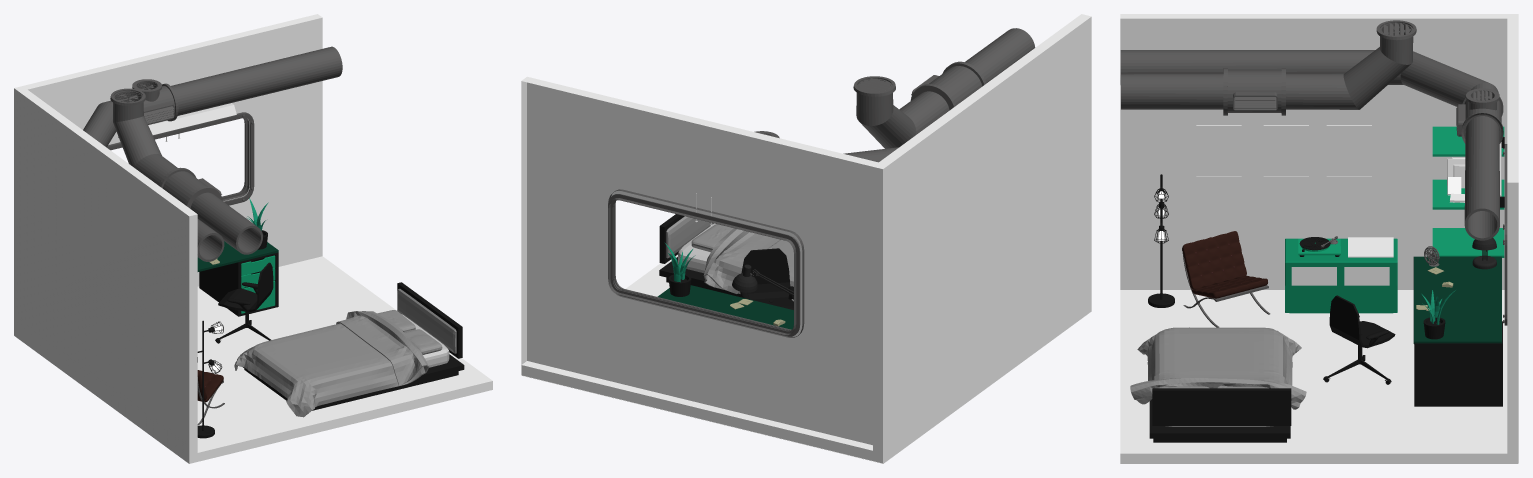
File: bake1.glb
3 renders of one model, left to right at view 1: azimuth 30°, elevation 25°; view 2: azimuth 150°, elevation 25°; view 3: azimuth 270°, elevation 25°, orthographic. The views are drawn at different scales.
Parts seen in each view (by area): view 1: Cube.002, Cube.001, GROUND, Plane, NurbsPath, NurbsPath.001, Cube, Cube.091, Cube.009, Cube.011, Plane.006, Circle.005 (+3 smaller); view 2: Cube.001, Cube.002, NurbsPath.001, GROUND, Plane, Cube.058, Circle.005, Cube.011, Cube.091, mattress, pillow2, Cube.009; view 3: Cube.002, GROUND, NurbsPath, Plane.002, NurbsPath.001, Plane, Cube.058, Cube, Cube.001, Cube.010, Cube.008, Cube.275 (+15 smaller).
Boxes of the visible parts, x1,y1,x2,y2 form: Cube.002: (14,86,197,463); Cube.001: (14,14,322,335); GROUND: (15,256,492,463); Plane: (234,311,429,417); NurbsPath: (83,46,342,261); NurbsPath.001: (110,88,262,254); Cube: (199,252,278,316); Cube.091: (397,288,456,353); Cube.009: (243,354,464,410); Cube.011: (107,112,254,205); Plane.006: (148,103,236,135); Circle.005: (218,262,273,312); Cube.001: (521,76,883,463); Cube.002: (873,14,1091,463); NurbsPath.001: (853,28,1035,148); GROUND: (521,254,1091,463); Plane: (703,228,793,301); Cube.058: (657,285,793,329); Circle.005: (741,248,793,309); Cube.011: (608,189,804,337); Cube.091: (666,216,713,258); mattress: (678,223,715,273); pillow2: (691,224,733,252); Cube.009: (659,257,741,297); Cube.002: (1120,14,1518,289); GROUND: (1120,290,1517,463); NurbsPath: (1120,50,1503,240); Plane.002: (1196,125,1371,218); NurbsPath.001: (1121,20,1416,115); Plane: (1130,327,1306,409); Cube.058: (1413,256,1501,343); Cube: (1414,321,1502,406); Cube.001: (1507,14,1518,463); Cube.010: (1152,388,1291,425); Cube.008: (1285,238,1397,313); Cube.275: (1182,231,1246,289).
Bounding box in the file's own units: 9.03 × 7.48 × 8.99.
